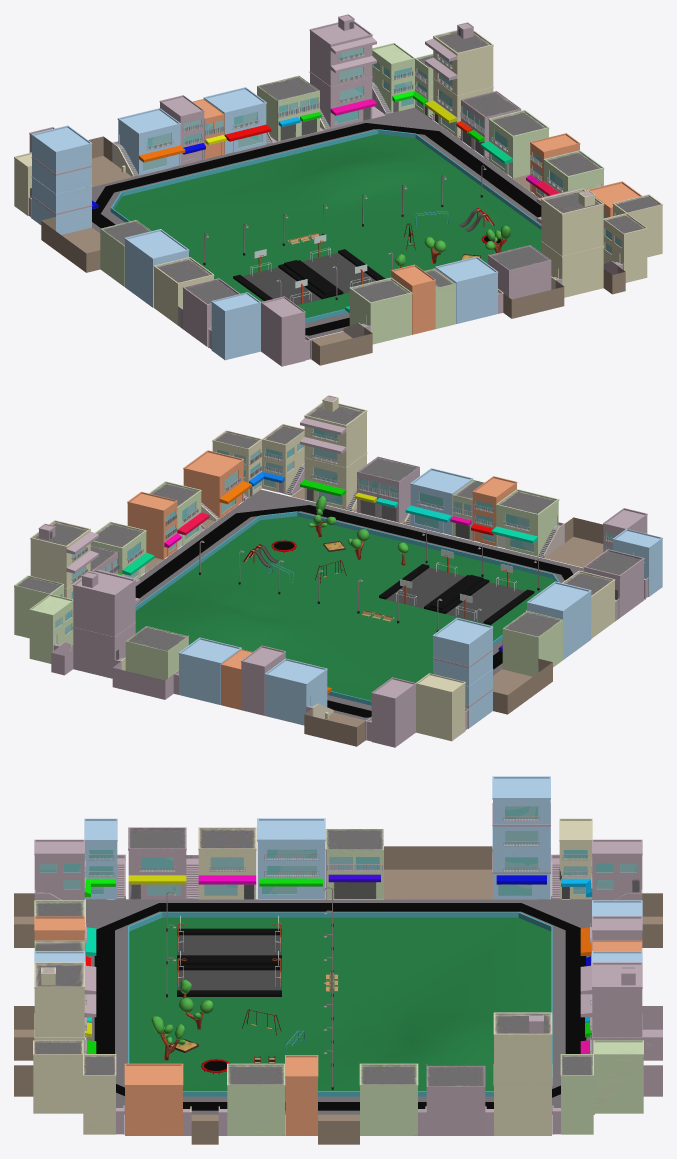
File: ParkV2_.fbx
The picture shows the model from 3 angles, top to bottom: view 1: azimuth 30°, elevation 25°; view 2: azimuth 150°, elevation 25°; view 3: azimuth 270°, elevation 25°; orthographic projection. The views are drawn at different scales.
Parts seen in each view (by area): view 1: Edificios_LOD00, Terreno_LOD00, Calle_LOD00, Cancha_LOD00, Landen_LOD00, Muro_LOD00, FarolasArray_LOD00; view 2: Edificios_LOD00, Terreno_LOD00, Cancha_LOD00, Calle_LOD00, Landen_LOD00, Muro_LOD00; view 3: Edificios_LOD00, Terreno_LOD00, Landen_LOD00, Calle_LOD00, Cancha_LOD00, Muro_LOD00, ArbolGrande_LOD00.
Part boxes in pixels (left/top/right/bottom): Edificios_LOD00: left=14, top=14, right=662, bottom=366; Terreno_LOD00: left=114, top=134, right=541, bottom=318; Calle_LOD00: left=92, top=123, right=541, bottom=335; Cancha_LOD00: left=233, top=234, right=385, bottom=305; Landen_LOD00: left=92, top=107, right=541, bottom=338; Muro_LOD00: left=110, top=129, right=541, bottom=322; FarolasArray_LOD00: left=203, top=165, right=486, bottom=265; Edificios_LOD00: left=14, top=395, right=662, bottom=747; Terreno_LOD00: left=135, top=516, right=554, bottom=700; Cancha_LOD00: left=379, top=549, right=534, bottom=624; Calle_LOD00: left=135, top=505, right=573, bottom=717; Landen_LOD00: left=135, top=489, right=584, bottom=720; Muro_LOD00: left=135, top=511, right=559, bottom=705; Edificios_LOD00: left=14, top=776, right=662, bottom=1144; Terreno_LOD00: left=129, top=917, right=551, bottom=1090; Landen_LOD00: left=85, top=899, right=594, bottom=1114; Calle_LOD00: left=94, top=903, right=586, bottom=1110; Cancha_LOD00: left=177, top=915, right=281, bottom=996; Muro_LOD00: left=128, top=912, right=552, bottom=1096; ArbolGrande_LOD00: left=151, top=1016, right=185, bottom=1060.
Size of what is drawn, in the model's own units: 30633 by 5846 by 30571.
